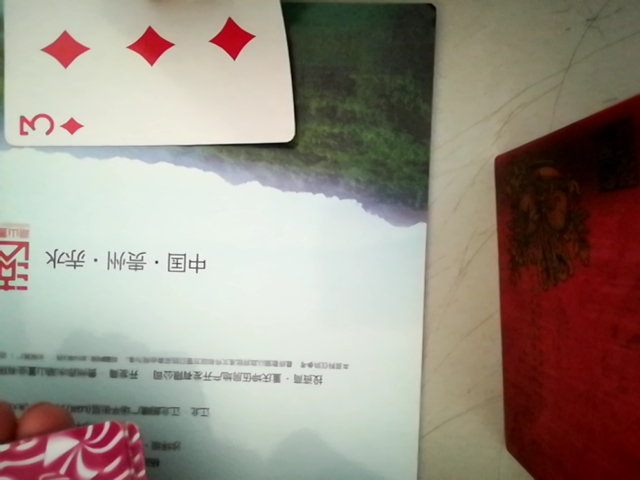fk 3: (0, 0, 296, 156)
